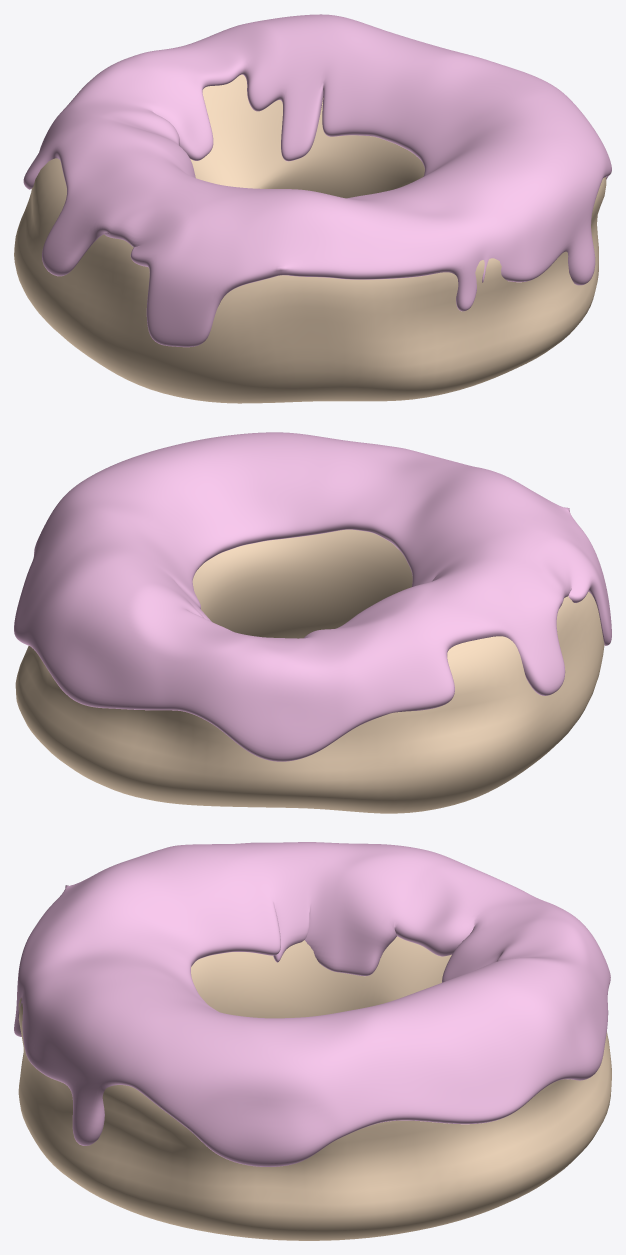
The model's file is Donut.glb.
The picture shows the model from 3 angles, top to bottom: view 1: azimuth 30°, elevation 25°; view 2: azimuth 150°, elevation 25°; view 3: azimuth 270°, elevation 25°; orthographic projection. The views are drawn at different scales.
Parts seen in each view (by area): view 1: Icing, Donut; view 2: Icing, Donut; view 3: Icing, Donut.
Part boxes in pixels (box(x1,y1,x2,y2)): Icing: box(23, 14, 611, 347); Donut: box(14, 74, 606, 403); Icing: box(14, 432, 611, 761); Donut: box(15, 529, 604, 813); Icing: box(14, 842, 610, 1166); Donut: box(18, 936, 611, 1240).
Size of what is drawn, in the model's own units: 0.1446 by 0.0553 by 0.1375.
